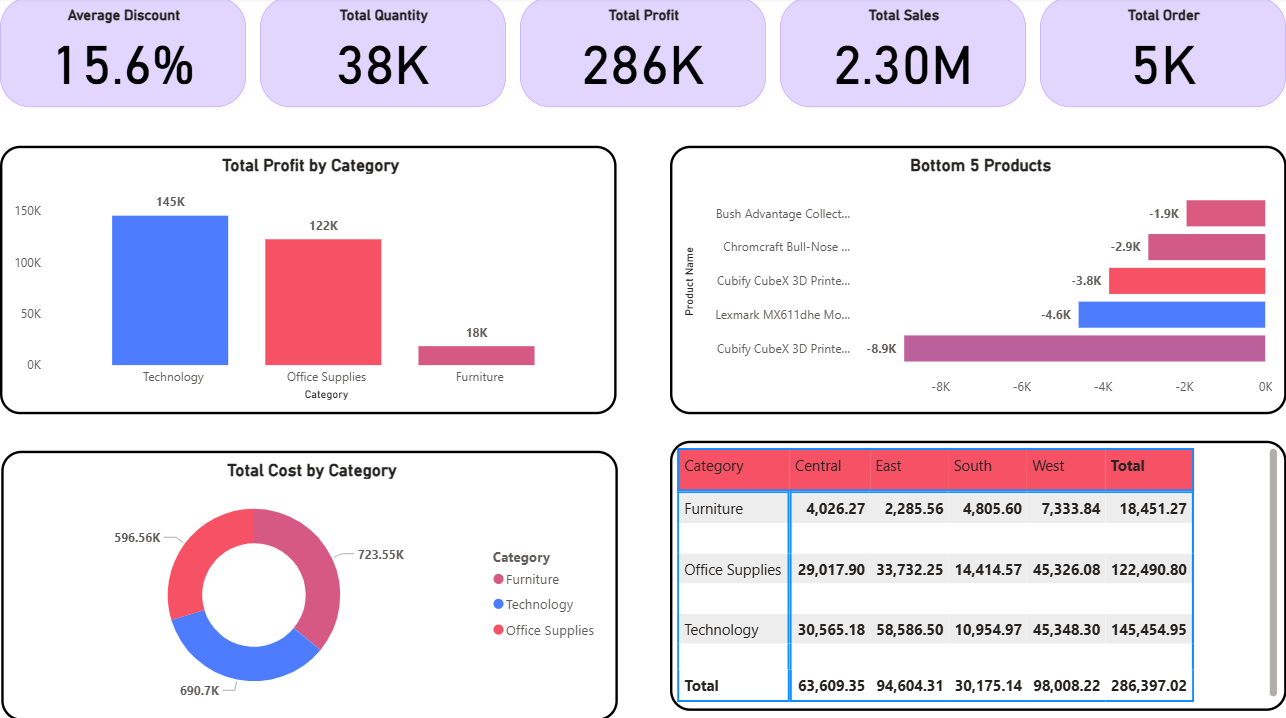

The dashboard page shown, as its layout file describes it:
{"tool":"powerbi","page":{"name":"Page 6","canvas":[1280,720],"ordinal":5},"visuals":[{"type":"cardVisual","title":"Average Discount","fields":{"Data":["DAXmeasure.Avg_Discount"]},"box":[-0.2,-0.5,245.1,109.5],"z":0},{"type":"cardVisual","title":"Total Order","fields":{"Data":["DAXmeasure.Total_Order"]},"box":[1034.7,-0.5,245.1,109.5],"z":1000},{"type":"cardVisual","title":"Total Profit","fields":{"Data":["DAXmeasure.Total_Profit"]},"box":[517.2,-0.5,245.1,109.5],"z":2000},{"type":"cardVisual","title":"Total Quantity","fields":{"Data":["DAXmeasure.Total_Quantity"]},"box":[258.5,-0.5,245.1,109.5],"z":3000},{"type":"cardVisual","title":"Total Sales","fields":{"Data":["DAXmeasure.Total_Sales"]},"box":[776,-0.5,245.1,109.5],"z":4000},{"type":"clusteredColumnChart","title":"Total Profit by Category","fields":{"Category":["ProductDim.Category"],"Y":["DAXmeasure.Total_Profit"]},"box":[0,147.5,613.8,267.5],"z":5000},{"type":"barChart","title":"Bottom 5 Products","fields":{"Y":["DAXmeasure.Total_Profit"],"Category":["ProductDim.Product Name"]},"box":[666.2,147.5,613.8,267.5],"z":6000},{"type":"donutChart","title":"Total Cost by Category","fields":{"Y":["DAXmeasure.Total_Cost"],"Category":["ProductDim.Category"]},"box":[1.2,451.2,613.8,268.8],"z":7000},{"type":"pivotTable","fields":{"Rows":["ProductDim.Category"],"Values":["DAXmeasure.Total_Profit"],"Columns":["CustomerDim.Region"]},"box":[666.8,441.6,613.3,268.7],"z":7001}]}

Visuals, with their boxes in screenshot pixels (x1, y1, x2, y2), scaled from the page's 1280x720 canvas onto the 1286x718 screenshot:
"Average Discount" cardVisual: bbox=[0, 0, 246, 109]
"Total Order" cardVisual: bbox=[1040, 0, 1285, 109]
"Total Profit" cardVisual: bbox=[520, 0, 766, 109]
"Total Quantity" cardVisual: bbox=[260, 0, 506, 109]
"Total Sales" cardVisual: bbox=[780, 0, 1026, 109]
"Total Profit by Category" clusteredColumnChart: bbox=[0, 147, 617, 414]
"Bottom 5 Products" barChart: bbox=[669, 147, 1285, 414]
"Total Cost by Category" donutChart: bbox=[1, 450, 618, 717]
pivotTable - ProductDim.Category x DAXmeasure.Total_Profit: bbox=[670, 440, 1285, 708]
